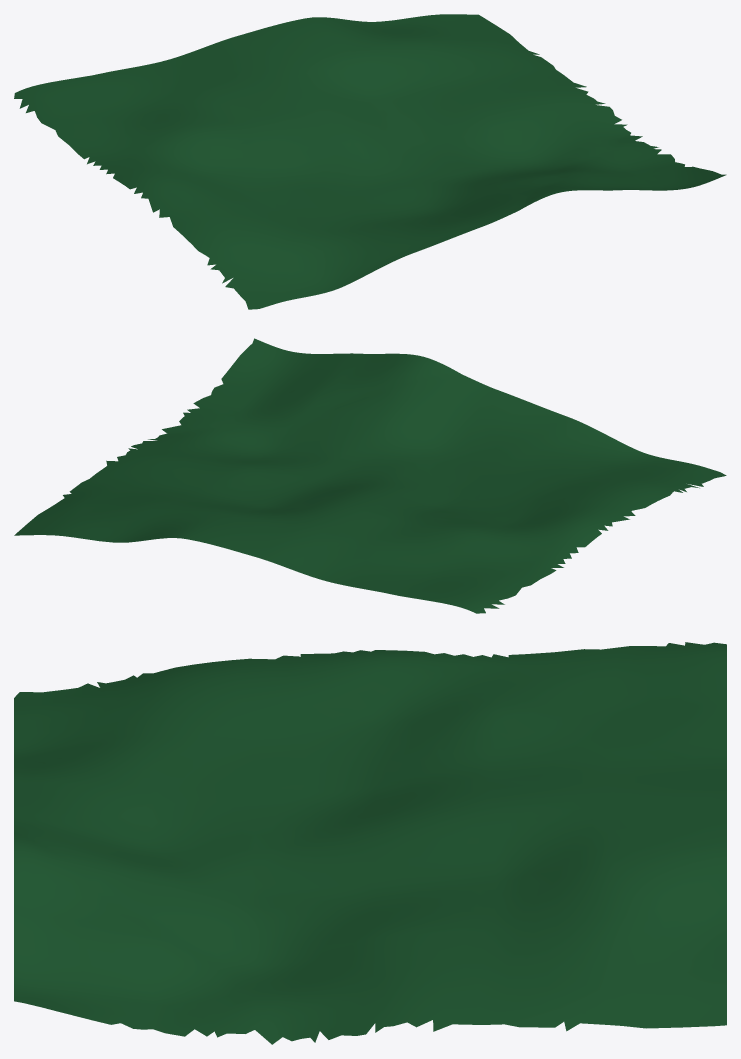
File: payo_land_x1_ym4.glb
3 renders of one model, top to bottom at view 1: azimuth 30°, elevation 25°; view 2: azimuth 150°, elevation 25°; view 3: azimuth 270°, elevation 25°, orthographic. The views are drawn at different scales.
Parts seen in each view (by area): view 1: payo_land_x1_ym4; view 2: payo_land_x1_ym4; view 3: payo_land_x1_ym4.
Boxes of the visible parts, x1=… form: payo_land_x1_ym4: x1=14, y1=14, x2=726, y2=309; payo_land_x1_ym4: x1=14, y1=338, x2=726, y2=613; payo_land_x1_ym4: x1=14, y1=642, x2=726, y2=1044.
Size of the model in its own units: 263 by 26.36 by 231.
